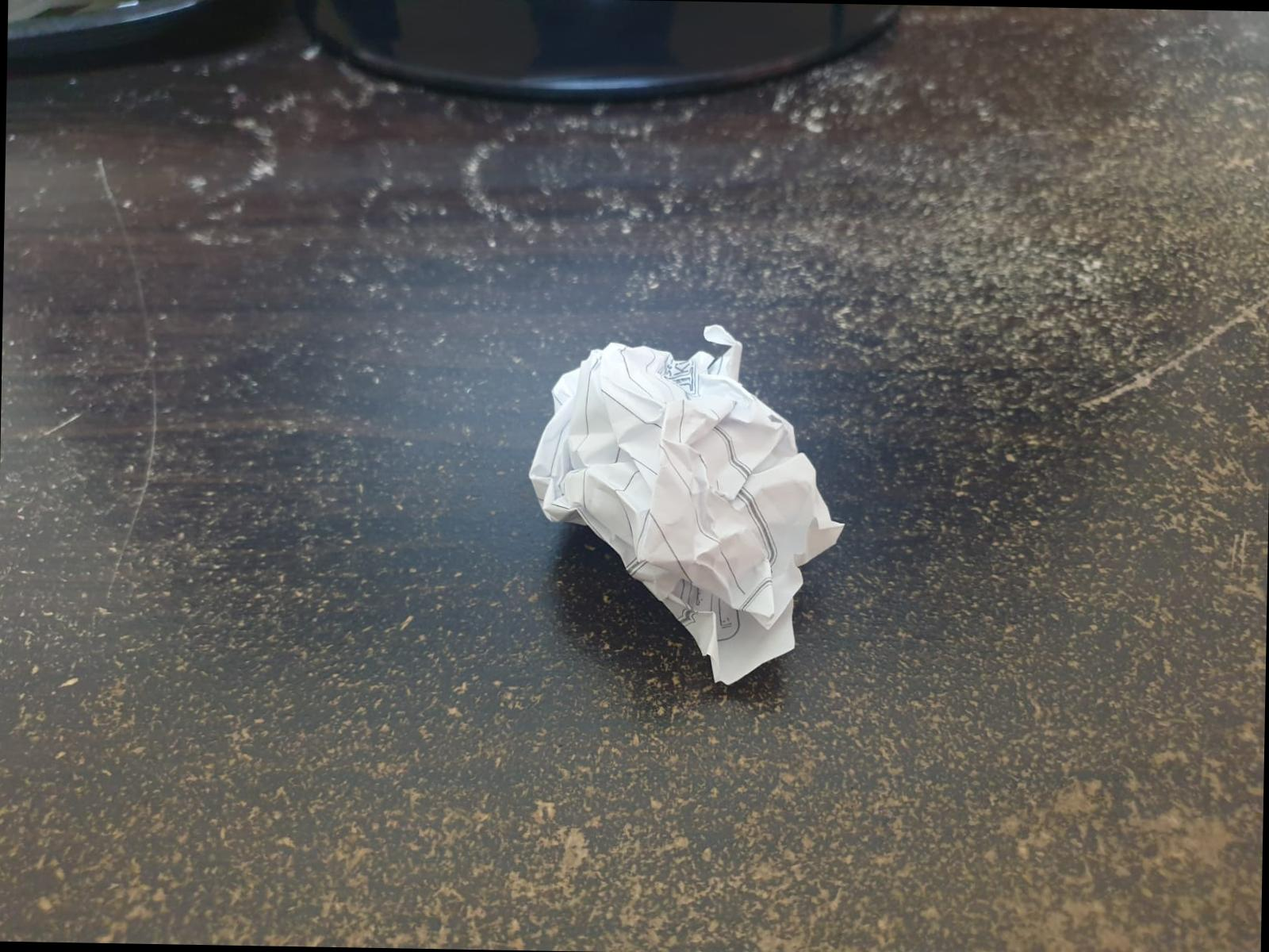Kertas: (530, 324, 843, 683)
